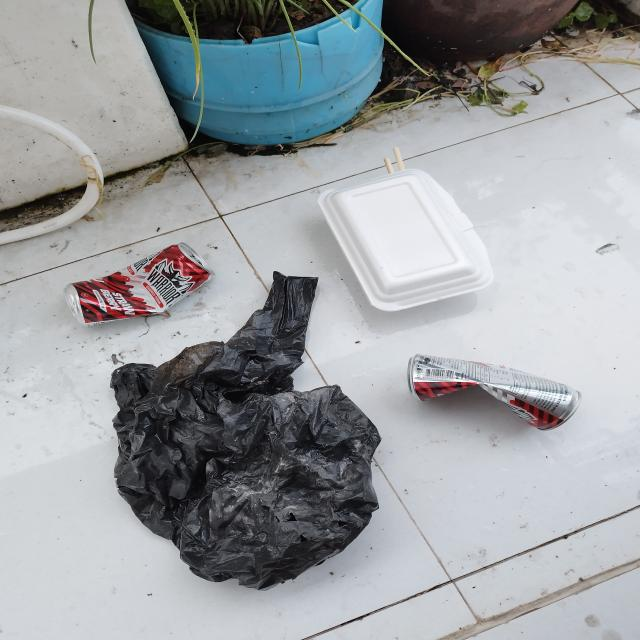bag: (108, 269, 382, 593)
can: (408, 353, 584, 432), (60, 242, 213, 329)
foam box: (316, 168, 495, 311)
